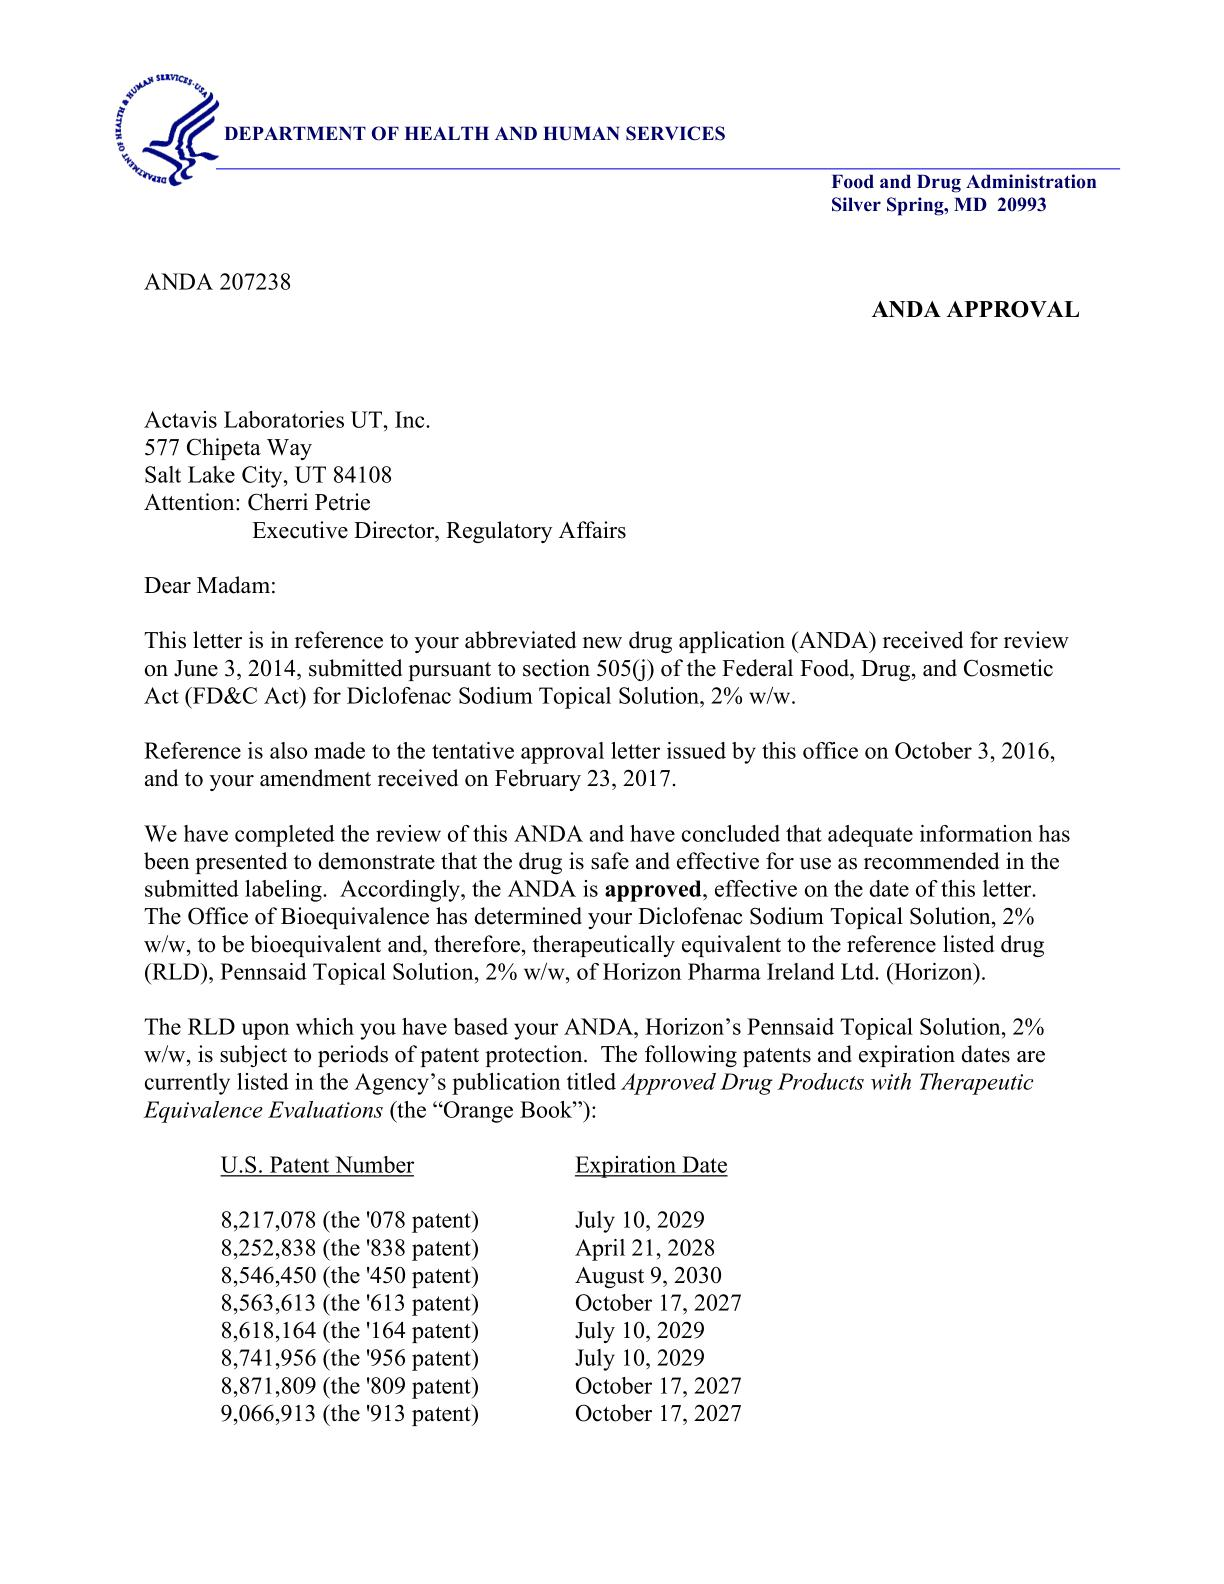nolines: (215, 1152, 744, 1428)
